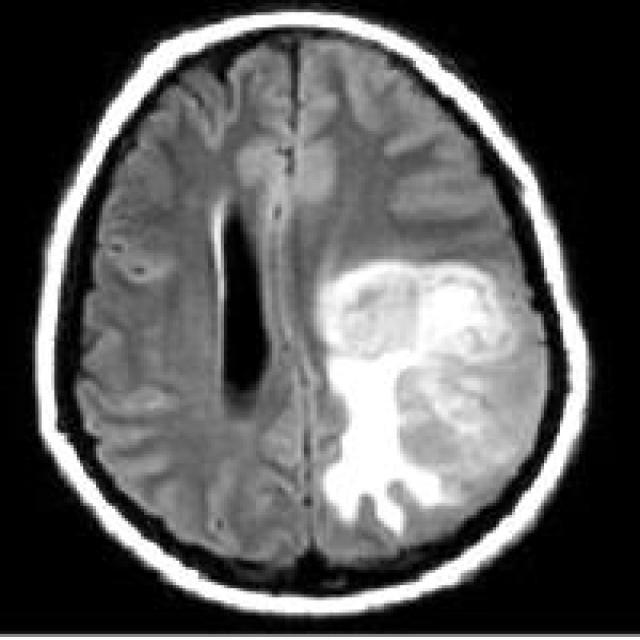brain tumor: (320, 256, 515, 506)
